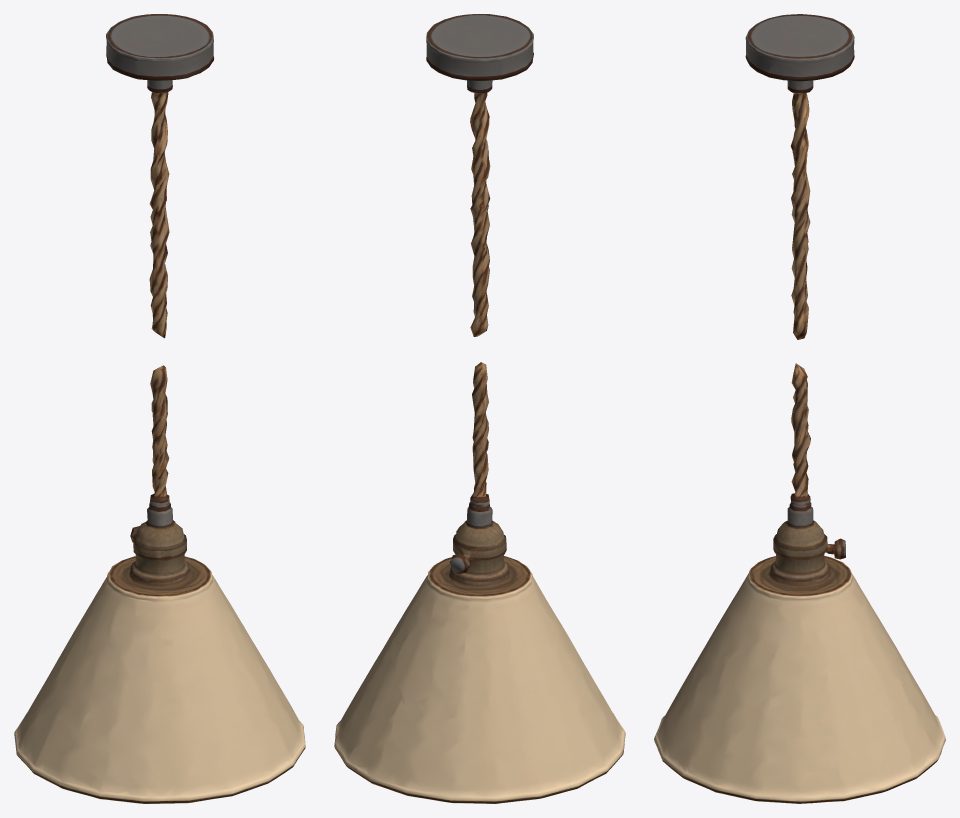
File: kit_pendant_lamp.glb
The picture shows the model from 3 angles, left to right: view 1: azimuth 30°, elevation 25°; view 2: azimuth 150°, elevation 25°; view 3: azimuth 270°, elevation 25°; orthographic projection.
Visible parts, largest first — view 1: tripo_node_09c0509c-1416-4c5e-a7d0-296f3e48d15d; view 2: tripo_node_09c0509c-1416-4c5e-a7d0-296f3e48d15d; view 3: tripo_node_09c0509c-1416-4c5e-a7d0-296f3e48d15d.
Part boxes in pixels (<box>): tripo_node_09c0509c-1416-4c5e-a7d0-296f3e48d15d: <box>14,14,305,803</box>; tripo_node_09c0509c-1416-4c5e-a7d0-296f3e48d15d: <box>334,14,625,803</box>; tripo_node_09c0509c-1416-4c5e-a7d0-296f3e48d15d: <box>654,14,945,803</box>.
Bounding box in the file's own units: 0.376 × 1 × 0.3739.
1 material, 1 textured.
